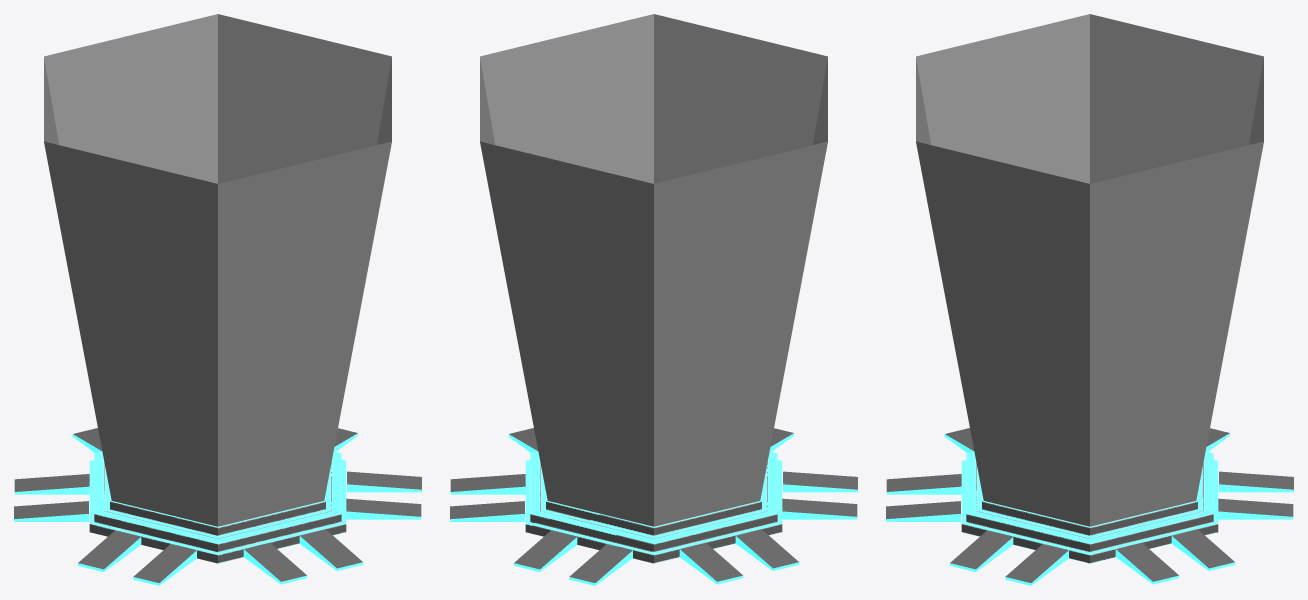
Rendered from SPW0110002.fbx.
3 views of the same model, side by side, from view 1: azimuth 30°, elevation 25°; view 2: azimuth 150°, elevation 25°; view 3: azimuth 270°, elevation 25° (orthographic).
Visible parts, largest first — view 1: smSPW0110002; view 2: smSPW0110002; view 3: smSPW0110002.
Boxes of the visible parts, <box> form: smSPW0110002: <box>14,14,421,585</box>; smSPW0110002: <box>450,14,857,585</box>; smSPW0110002: <box>886,14,1293,585</box>.
Bounding box in the file's own units: 310 × 342 × 314.
2 materials, 1 textured.
